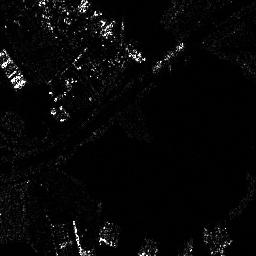ship: (152, 41, 185, 73)
